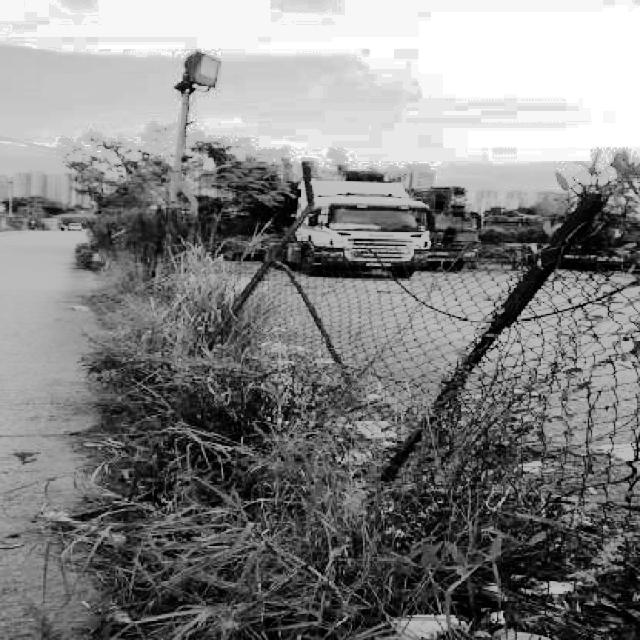anomaly-fence: (213, 82, 640, 579)
